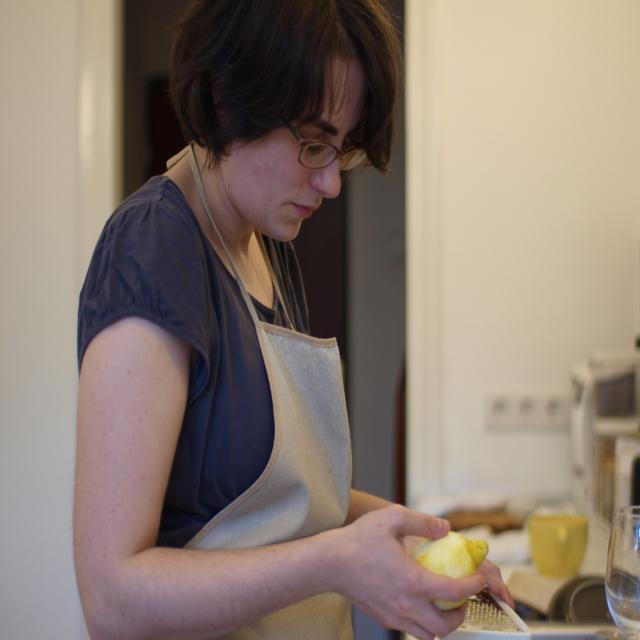Potato: (410, 530, 489, 612)
